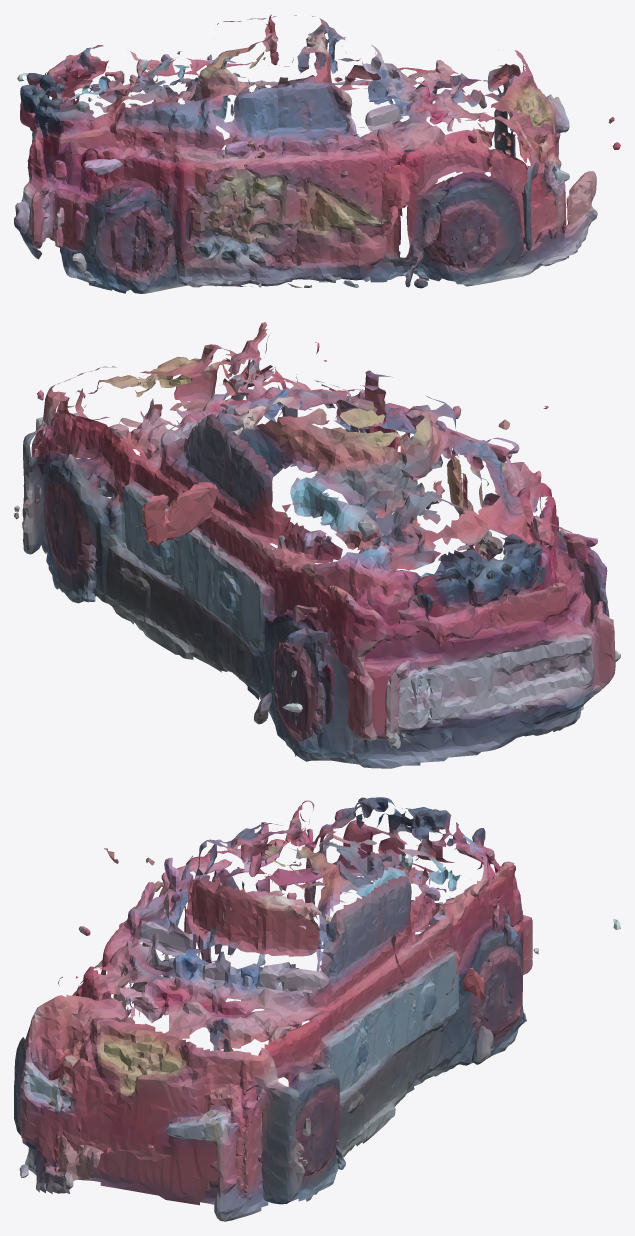
File: finished_model_20260520_112830.glb
The picture shows the model from 3 angles, top to bottom: view 1: azimuth 30°, elevation 25°; view 2: azimuth 150°, elevation 25°; view 3: azimuth 270°, elevation 25°; orthographic projection. The views are drawn at different scales.
Parts seen in each view (by area): view 1: finished_model_20260520_112830.ply; view 2: finished_model_20260520_112830.ply; view 3: finished_model_20260520_112830.ply.
Boxes of the visible parts, x1,y1,x2,y2 form: finished_model_20260520_112830.ply: (14, 14, 620, 293); finished_model_20260520_112830.ply: (14, 322, 620, 768); finished_model_20260520_112830.ply: (14, 797, 620, 1221).
Size of the model in its own units: 0.0863 by 0.0305 by 0.0739.
